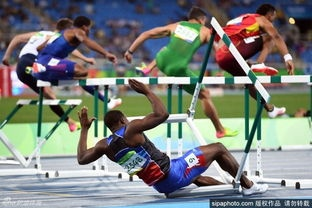falling: (64, 78, 277, 196)
